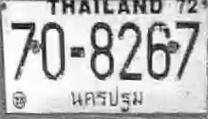0: (38, 21, 66, 80)
2: (118, 21, 142, 80)
6: (146, 20, 178, 80)
7: (10, 21, 38, 80), (175, 20, 200, 80)
8: (90, 21, 113, 80)
NPT: (68, 84, 147, 113)
